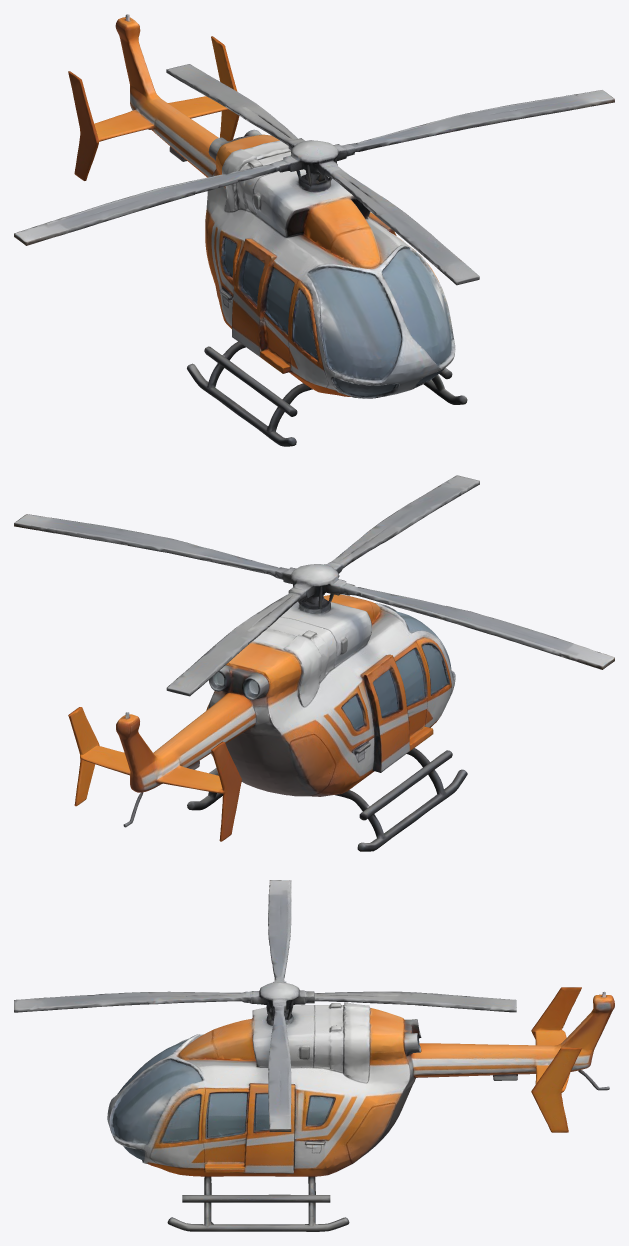
The model's file is helicoptero.glb.
3 views of the same model, one above another, from view 1: azimuth 30°, elevation 25°; view 2: azimuth 150°, elevation 25°; view 3: azimuth 270°, elevation 25° (orthographic). The views are drawn at different scales.
Parts seen in each view (by area): view 1: tripo_node_c1d40160-17b9-416d-9c9b-290e23f93d16; view 2: tripo_node_c1d40160-17b9-416d-9c9b-290e23f93d16; view 3: tripo_node_c1d40160-17b9-416d-9c9b-290e23f93d16.
Part boxes in pixels (x1,y1,x2,y2): tripo_node_c1d40160-17b9-416d-9c9b-290e23f93d16: [14, 14, 614, 446]; tripo_node_c1d40160-17b9-416d-9c9b-290e23f93d16: [14, 475, 614, 851]; tripo_node_c1d40160-17b9-416d-9c9b-290e23f93d16: [14, 880, 614, 1231].
Bounding box in the file's own units: 10.28 × 4.04 × 10.5.
1 material, 1 textured.
